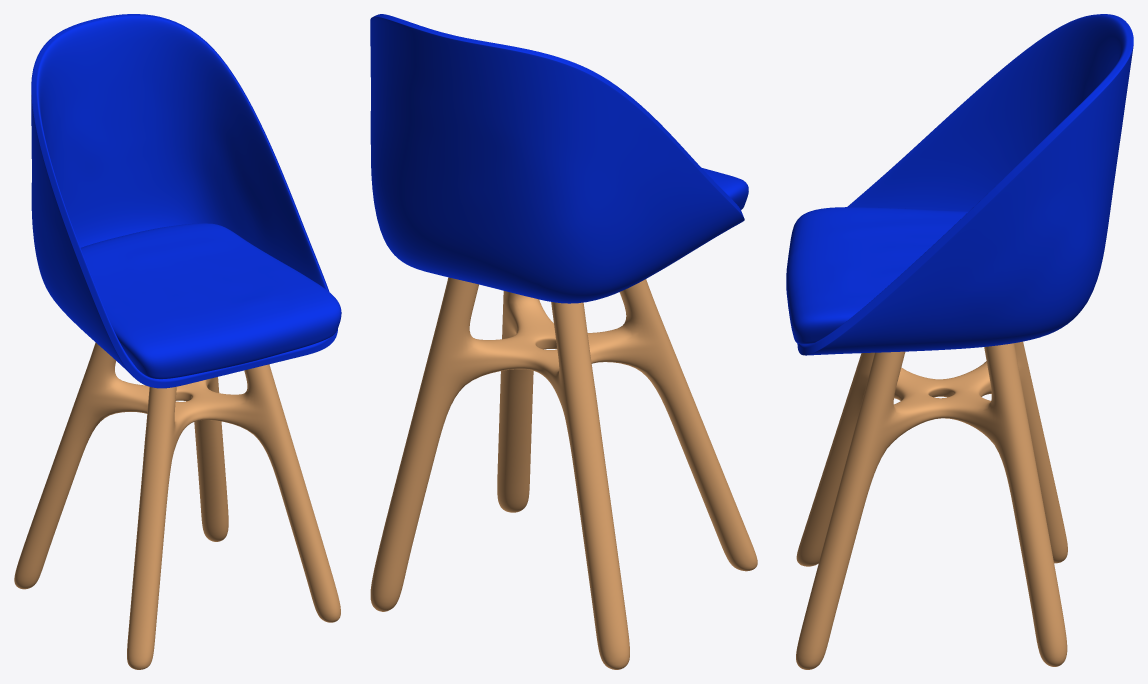
Rendered from chair_fabric_blue.gltf.
3 views of the same model, side by side, from view 1: azimuth 30°, elevation 25°; view 2: azimuth 150°, elevation 25°; view 3: azimuth 270°, elevation 25° (orthographic). The views are drawn at different scales.
Parts seen in each view (by area): view 1: Cube, Cube.002, Cube.003; view 2: Cube, Cube.002, Cube.003; view 3: Cube, Cube.002, Cube.003.
Part boxes in pixels (<box>): Cube: <box>31,14,337,388</box>; Cube.002: <box>14,342,340,669</box>; Cube.003: <box>80,223,341,379</box>; Cube: <box>370,14,744,303</box>; Cube.002: <box>370,277,757,669</box>; Cube.003: <box>702,168,748,209</box>; Cube: <box>797,14,1133,355</box>; Cube.002: <box>796,341,1067,669</box>; Cube.003: <box>786,207,968,344</box>.
Size of the model in its own units: 1.69 by 3.75 by 2.04.
